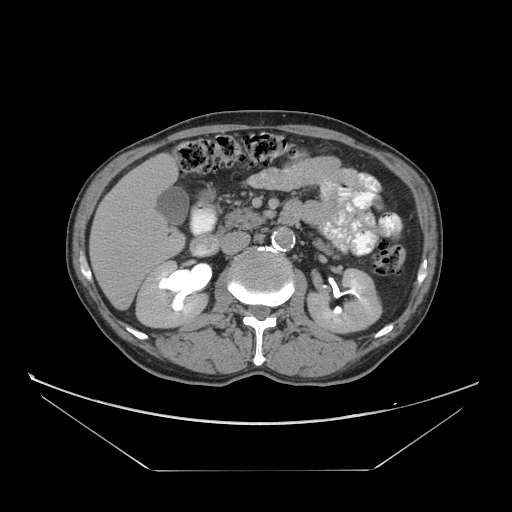left_kidney: (132, 256, 211, 324)
right_kidney: (303, 261, 387, 333)
